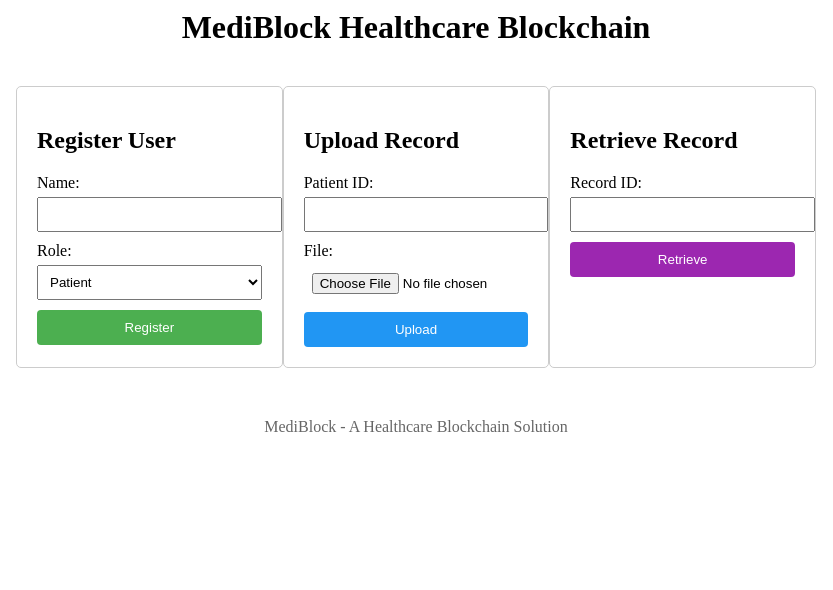
Test: Home page › should retrieve a record when form is submitted
The width and height of the screenshot is (833, 590).
# Fill in the form
Step 1. Type "record_test_123" into the field labelled "Record ID:" → [693, 215], box left=570, top=197, right=815, bottom=232
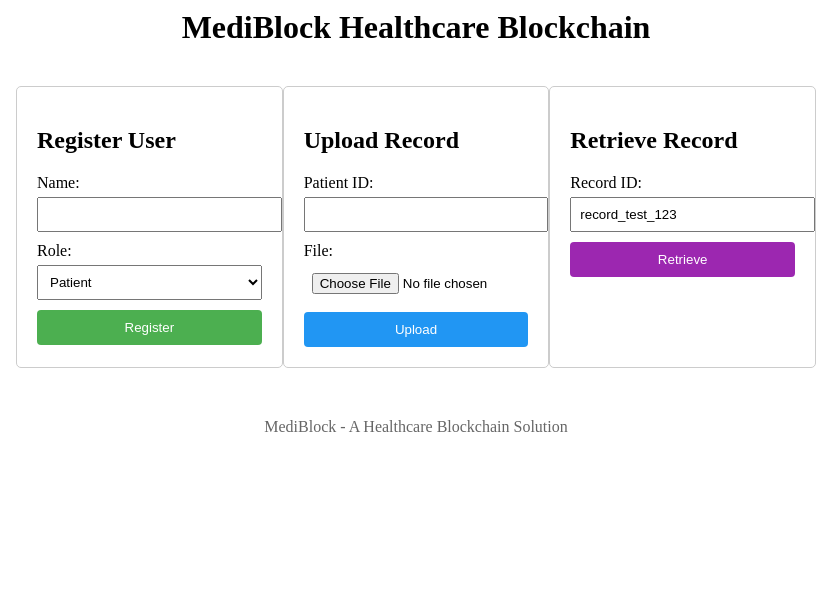
# Submit the form
Step 2. Click the button "Retrieve" → [683, 260], box left=570, top=242, right=795, bottom=277
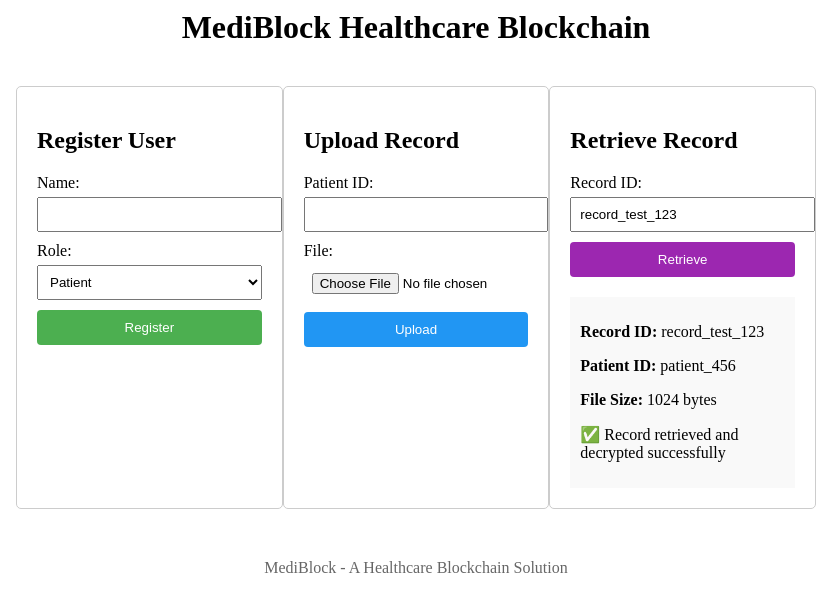
expect the text "record_test_123" is shown: met, box left=661, top=323, right=764, bottom=340
expect the text "patient_456" is shown: met, box left=660, top=357, right=736, bottom=374
expect the text "1024 bytes" is shown: met, box left=580, top=391, right=717, bottom=408
